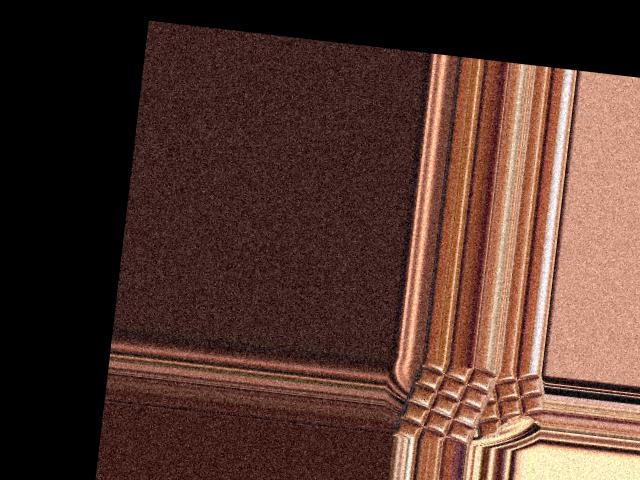chocolate: (390, 357, 501, 447)
